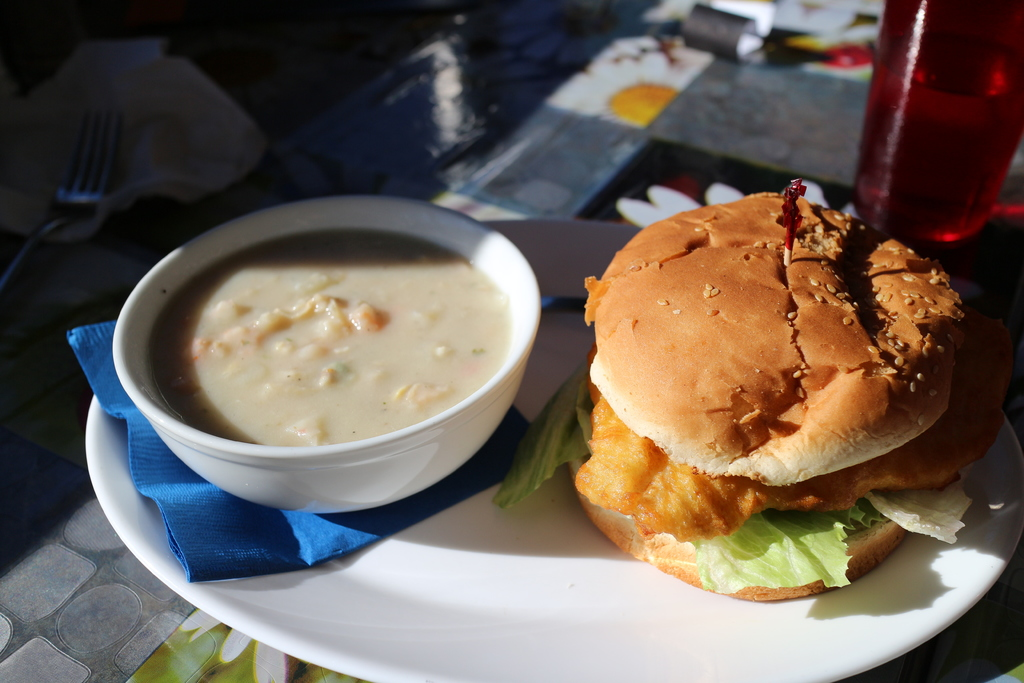Hamburger: (503, 195, 1012, 598)
